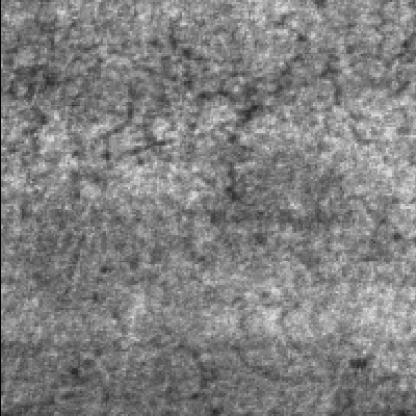crazing: (0, 6, 308, 216), (312, 0, 412, 148)
